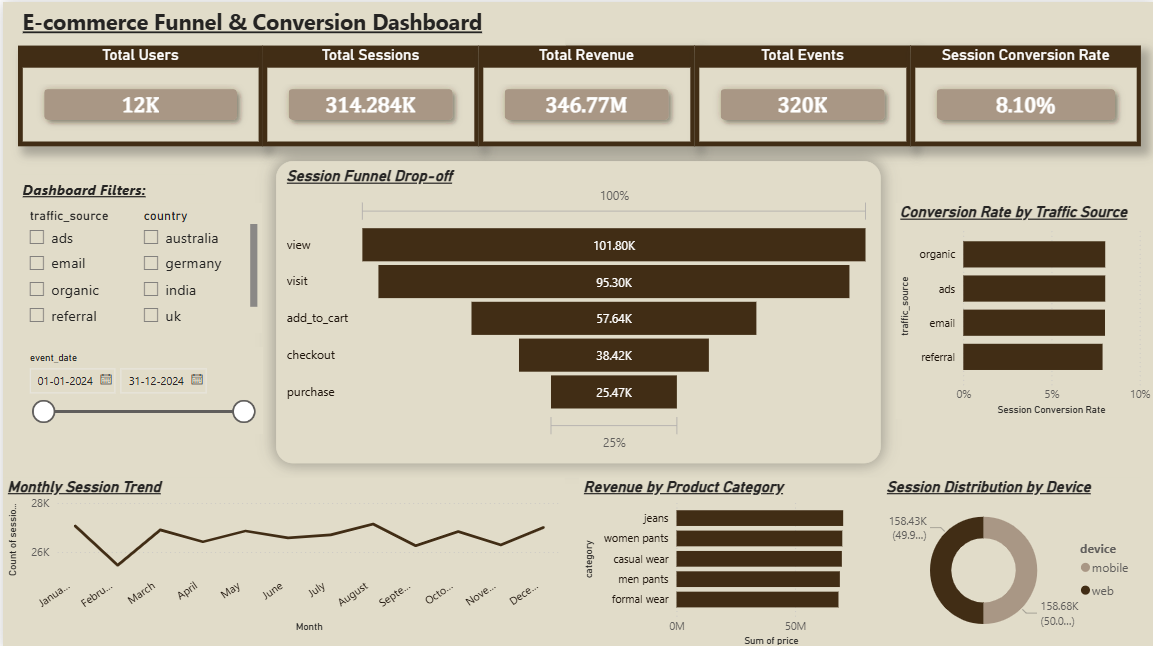

The page's visual inventory and layout, read from the dashboard file:
{"tool":"powerbi","page":{"name":"Page 1","canvas":[1280,720],"ordinal":0},"visuals":[{"type":"cardVisual","title":"Total Users","fields":{"Data":["Count(cleaned_user_events.user_id)"]},"box":[16,48,272,112],"z":0},{"type":"cardVisual","title":"Total Sessions","fields":{"Data":["Count(cleaned_user_events.session_id)"]},"box":[288,48,240,112],"z":1000},{"type":"cardVisual","title":"Total Revenue","fields":{"Data":["Sum(cleaned_user_events.price)"]},"box":[528,48,240,112],"z":2000},{"type":"cardVisual","title":"Total Events","fields":{"Data":["CountNonNull(cleaned_user_events.event_type)"]},"box":[768,48,240,112],"z":3000},{"type":"funnel","title":"Session Funnel Drop-off","fields":{"Category":["cleaned_user_events.event_type"],"Y":["Count(cleaned_user_events.session_id)"]},"box":[304,176,672,336],"z":4000},{"type":"cardVisual","title":"Session Conversion Rate","fields":{"Data":["cleaned_user_events.Session Conversion Rate"]},"box":[1008,48,256,112],"z":5000},{"type":"clusteredBarChart","title":"Conversion Rate by Traffic Source","fields":{"Category":["cleaned_user_events.traffic_source"],"Y":["cleaned_user_events.Session Conversion Rate"]},"box":[992,224,288,240],"z":6000},{"type":"donutChart","title":"Session Distribution by Device","fields":{"Category":["cleaned_user_events.device"],"Y":["Count(cleaned_user_events.session_id)"]},"box":[976,528,288,192],"z":7000},{"type":"clusteredBarChart","title":"Revenue by Product Category","fields":{"Y":["Sum(cleaned_user_events.price)"],"Category":["cleaned_user_events.category"]},"box":[640,528,336,192],"z":8000},{"type":"lineChart","title":"Monthly Session Trend","fields":{"Category":["cleaned_user_events.event_date.Variation.Date Hierarchy.Month"],"Y":["Count(cleaned_user_events.session_id)"]},"box":[0,528,624,176],"z":9000},{"type":"slicer","fields":{"Values":["cleaned_user_events.event_date"]},"box":[16,384,272,96],"z":10000},{"type":"slicer","fields":{"Values":["cleaned_user_events.country"]},"box":[144,224,144,144],"z":11000},{"type":"slicer","fields":{"Values":["cleaned_user_events.traffic_source"]},"box":[16,224,128,144],"z":12000},{"type":"textbox","box":[16,0,608,48],"z":13000},{"type":"textbox","box":[16,192,208,32],"z":14000}]}

Visuals, with their boxes in screenshot pixels (x1, y1, x2, y2), scaled from the page's 1280x720 canvas onto the 1153x646 screenshot:
"Total Users" cardVisual: {"left": 14, "top": 43, "right": 259, "bottom": 144}
"Total Sessions" cardVisual: {"left": 259, "top": 43, "right": 476, "bottom": 144}
"Total Revenue" cardVisual: {"left": 476, "top": 43, "right": 692, "bottom": 144}
"Total Events" cardVisual: {"left": 692, "top": 43, "right": 908, "bottom": 144}
"Session Funnel Drop-off" funnel: {"left": 274, "top": 158, "right": 879, "bottom": 459}
"Session Conversion Rate" cardVisual: {"left": 908, "top": 43, "right": 1139, "bottom": 144}
"Conversion Rate by Traffic Source" clusteredBarChart: {"left": 894, "top": 201, "right": 1152, "bottom": 416}
"Session Distribution by Device" donutChart: {"left": 879, "top": 474, "right": 1139, "bottom": 645}
"Revenue by Product Category" clusteredBarChart: {"left": 576, "top": 474, "right": 879, "bottom": 645}
"Monthly Session Trend" lineChart: {"left": 0, "top": 474, "right": 562, "bottom": 632}
slicer - cleaned_user_events.event_date: {"left": 14, "top": 345, "right": 259, "bottom": 431}
slicer - cleaned_user_events.country: {"left": 130, "top": 201, "right": 259, "bottom": 330}
slicer - cleaned_user_events.traffic_source: {"left": 14, "top": 201, "right": 130, "bottom": 330}
textbox: {"left": 14, "top": 0, "right": 562, "bottom": 43}
textbox: {"left": 14, "top": 172, "right": 202, "bottom": 201}
